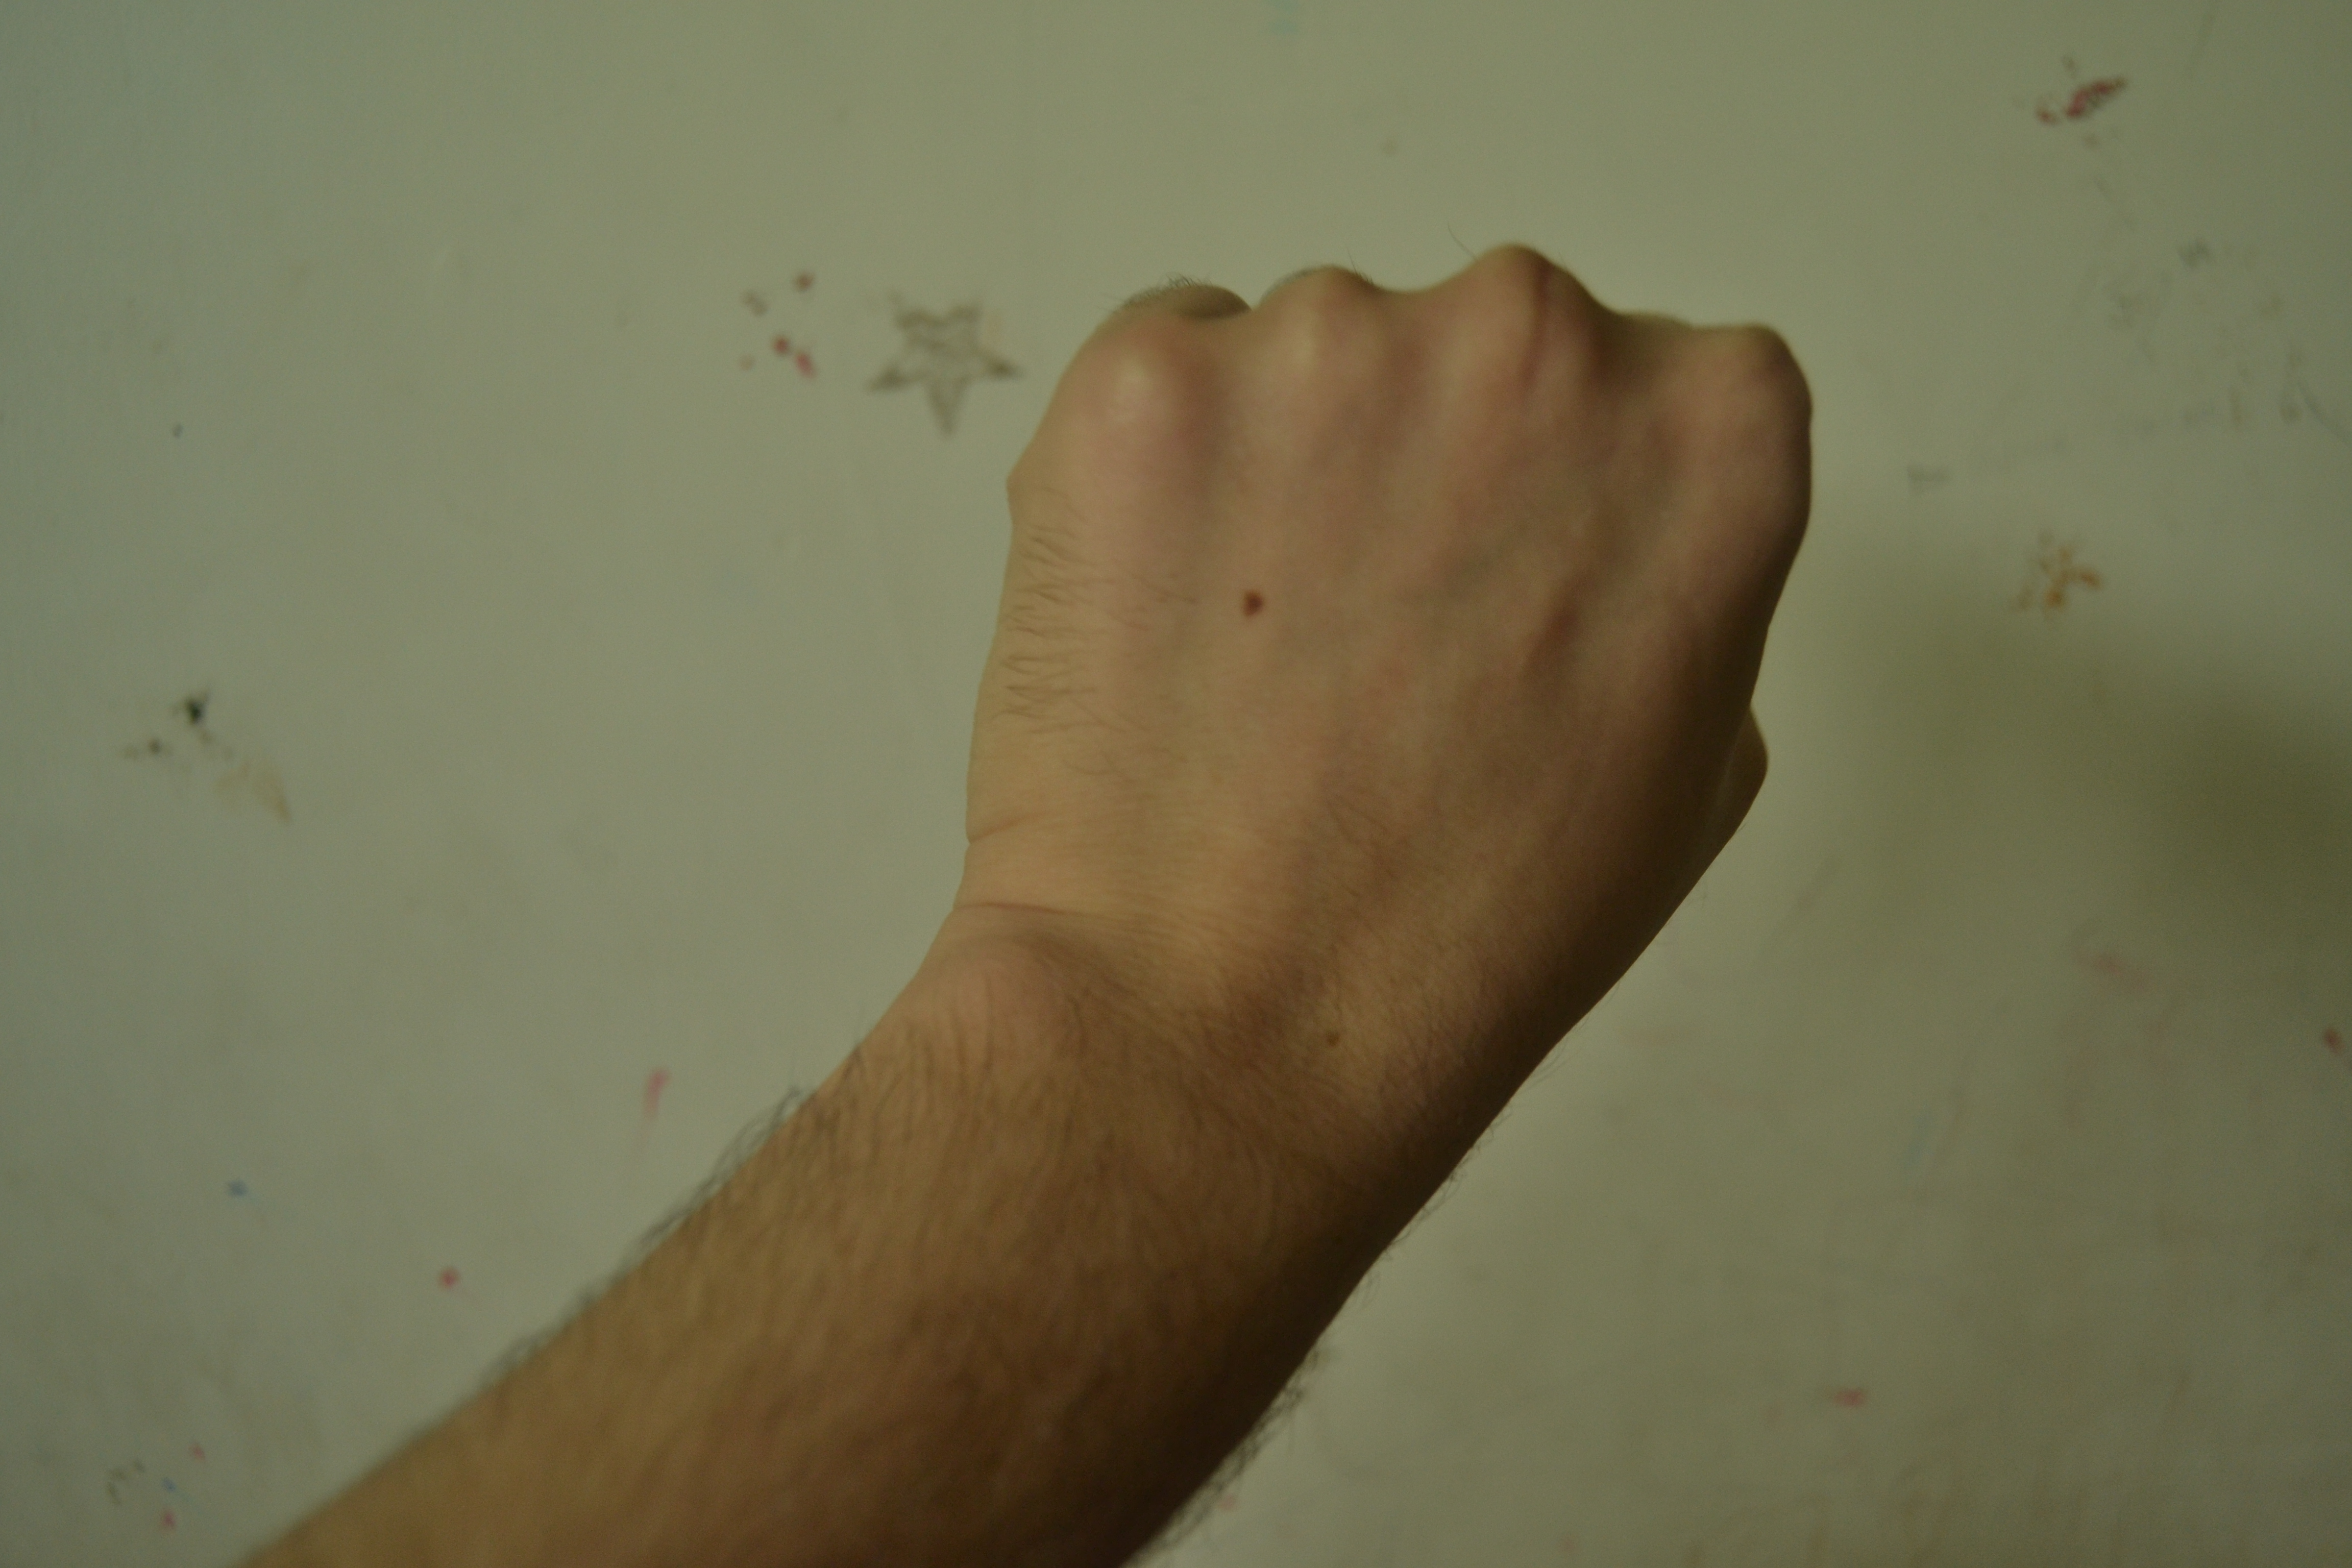click: (894, 105, 1904, 1295)
